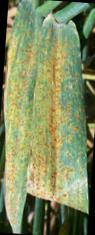Wheat: (43, 47, 75, 182), (6, 126, 42, 207), (10, 41, 41, 122)
